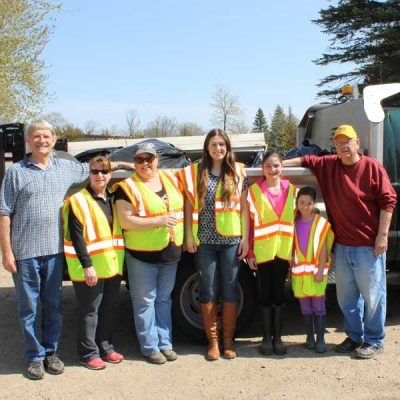person with partial safety: (115, 144, 189, 364), (183, 131, 252, 360), (65, 156, 125, 369), (245, 152, 295, 357), (291, 189, 338, 358)
person without safety: (3, 123, 81, 380), (310, 122, 390, 358)
safety vest: (121, 167, 186, 248), (65, 189, 125, 276), (185, 159, 241, 243), (247, 179, 296, 266), (292, 219, 333, 301)
